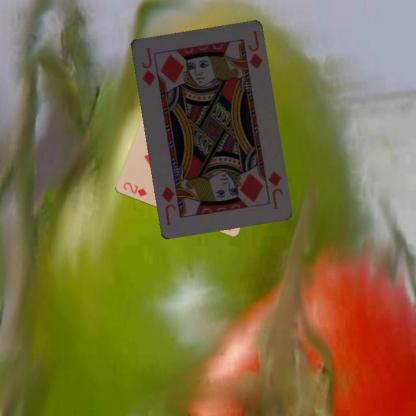2d: (120, 180, 148, 198)
Jd: (138, 44, 157, 86), (265, 168, 284, 210)
